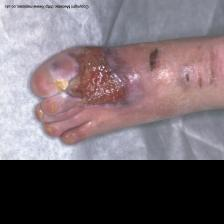Wound: (49, 45, 146, 104), (176, 62, 206, 104), (136, 41, 165, 69)
